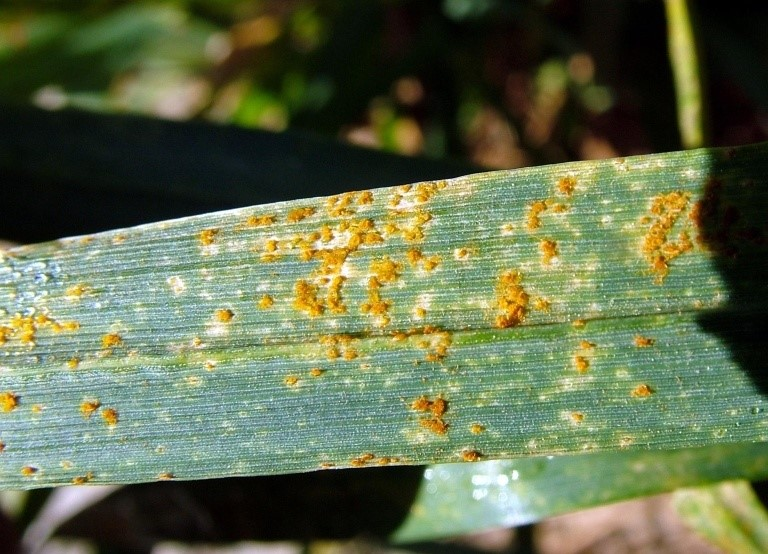Leaf Rust: (232, 130, 728, 409)
